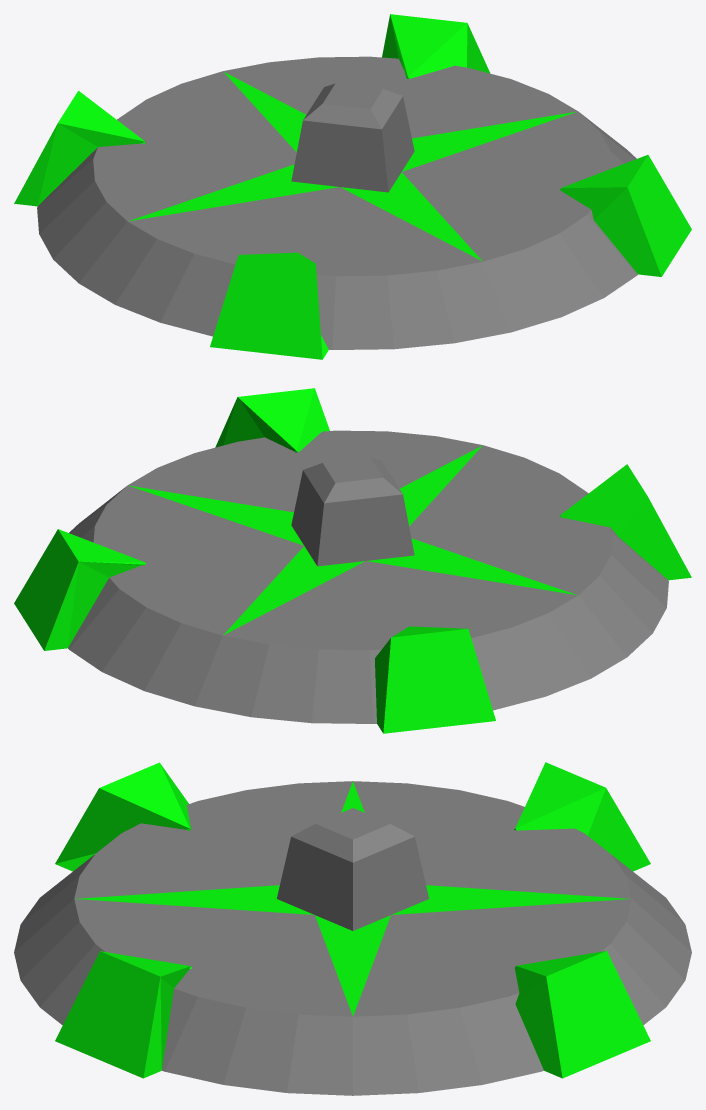
Rendered from Beyblade_Base.fbx.
3 renders of one model, top to bottom at view 1: azimuth 30°, elevation 25°; view 2: azimuth 150°, elevation 25°; view 3: azimuth 270°, elevation 25°, orthographic. The views are drawn at different scales.
Visible parts, largest first — view 1: Circle; view 2: Circle; view 3: Circle.
Part boxes in pixels (bbox=[...]): Circle: bbox=[14, 14, 691, 359]; Circle: bbox=[14, 388, 691, 733]; Circle: bbox=[14, 762, 691, 1095].
Bounding box in the file's own units: 200 × 41.92 × 200.
Materials: 1 (1 with a texture image).
